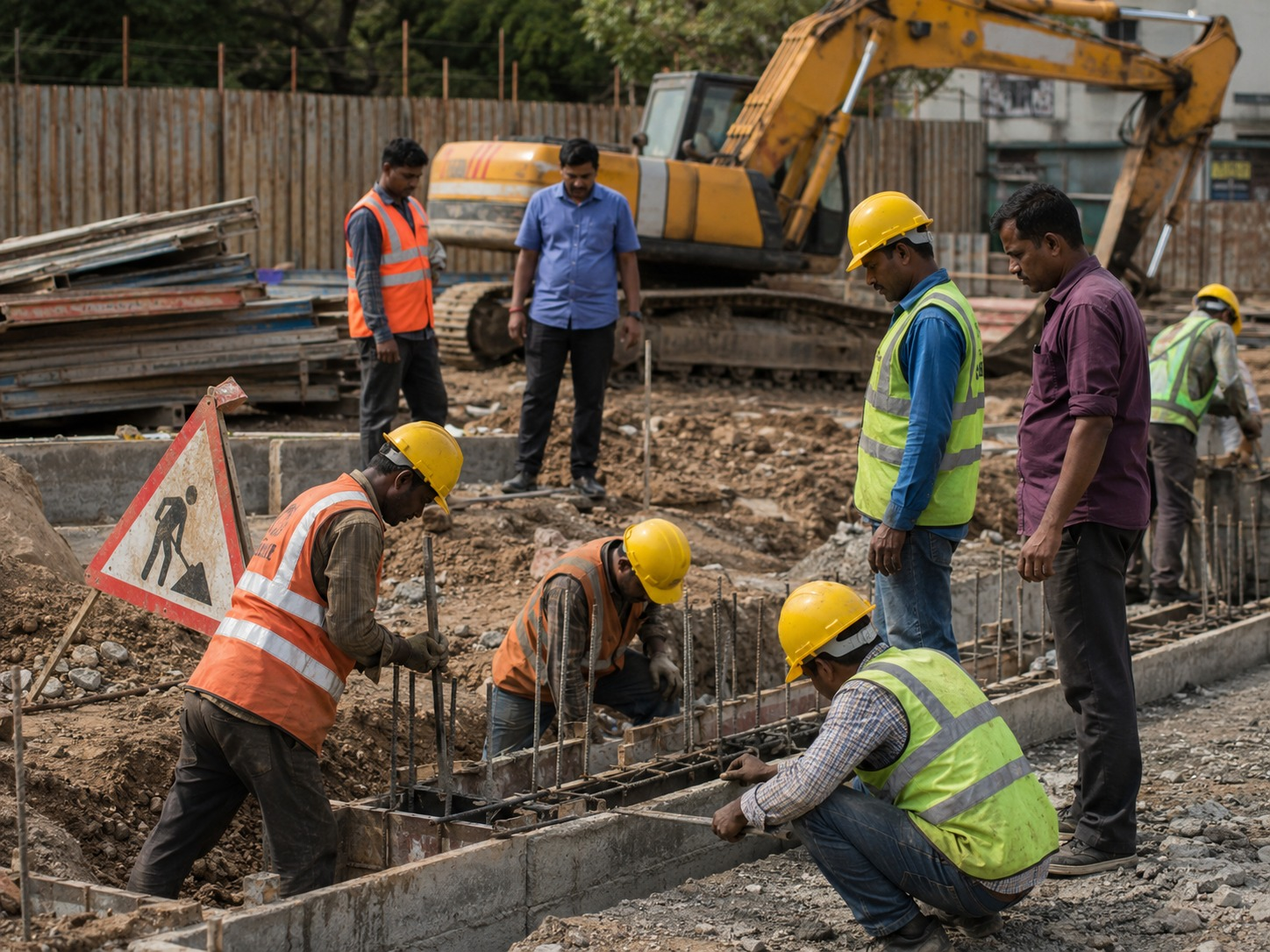helmet: (296, 215, 360, 266), (684, 237, 747, 282)
person: (263, 215, 373, 570), (667, 241, 781, 530)
vehicle: (465, 105, 868, 320)
vest: (250, 289, 373, 421)
warning_sign: (66, 355, 272, 522)
